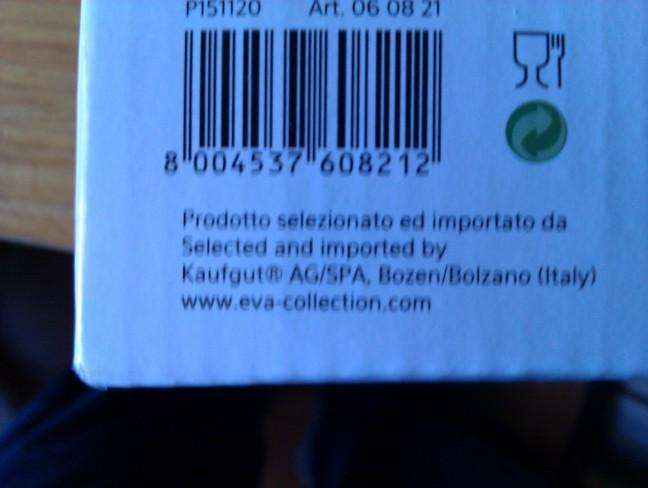barcode: (149, 22, 469, 192)
